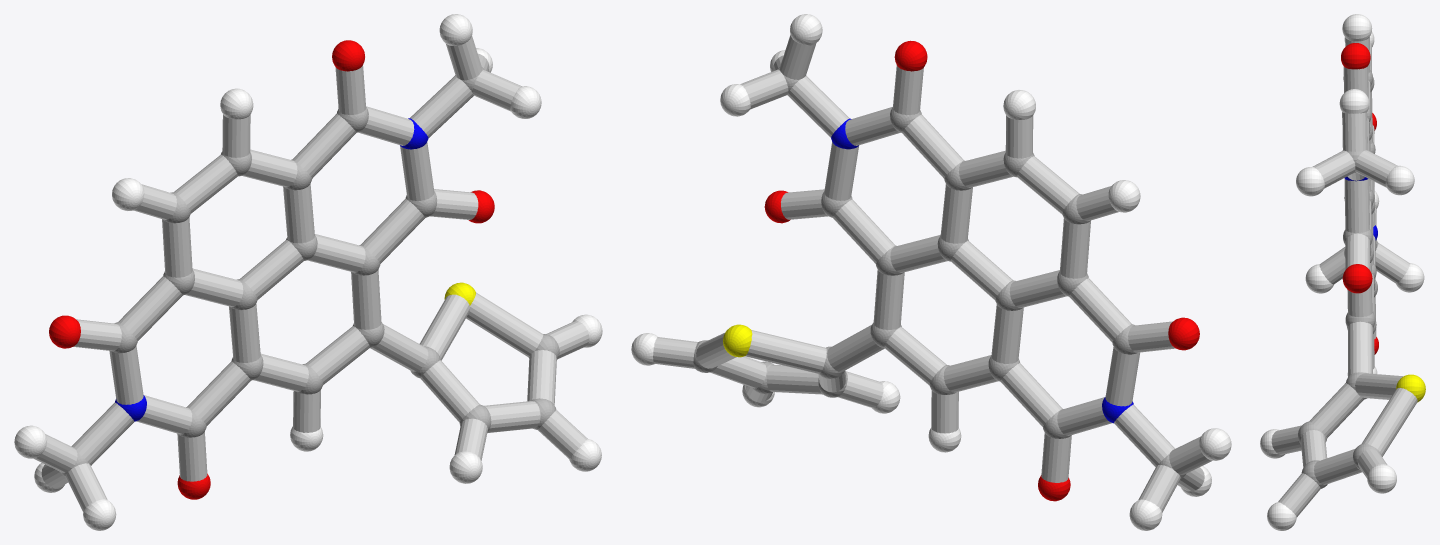
Rendered from Dimethyl_Naphthalene_Dicarboximide_Phi_20_Theta_130_Thiophene.glb.
3 renders of one model, left to right at view 1: azimuth 30°, elevation 25°; view 2: azimuth 150°, elevation 25°; view 3: azimuth 270°, elevation 25°, orthographic. The views are drawn at different scales.
Visible parts, largest first — view 1: grp14119, grp7241, grp1, grp12309, grp11585; view 2: grp14119, grp7241, grp1, grp12309, grp13757, grp11585; view 3: grp14119, grp7241, grp1, grp12309, grp13757.
Boxes of the visible parts, x1,y1,x2,y2 form: grp14119: [34, 36, 589, 511]; grp7241: [14, 14, 602, 530]; grp1: [60, 67, 559, 476]; grp12309: [49, 40, 494, 499]; grp11585: [115, 118, 428, 421]; grp14119: [653, 35, 1212, 512]; grp7241: [631, 14, 1231, 530]; grp1: [693, 67, 1185, 479]; grp12309: [764, 40, 1199, 501]; grp13757: [723, 324, 752, 357]; grp11585: [831, 118, 1133, 423]; grp14119: [1271, 37, 1417, 517]; grp7241: [1260, 14, 1424, 530]; grp1: [1298, 70, 1382, 488]; grp12309: [1341, 43, 1378, 354]; grp13757: [1396, 374, 1425, 402].
Size of the model in its own units: 12.37 by 8.89 by 3.34.
